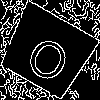O: (22, 27, 78, 86)
